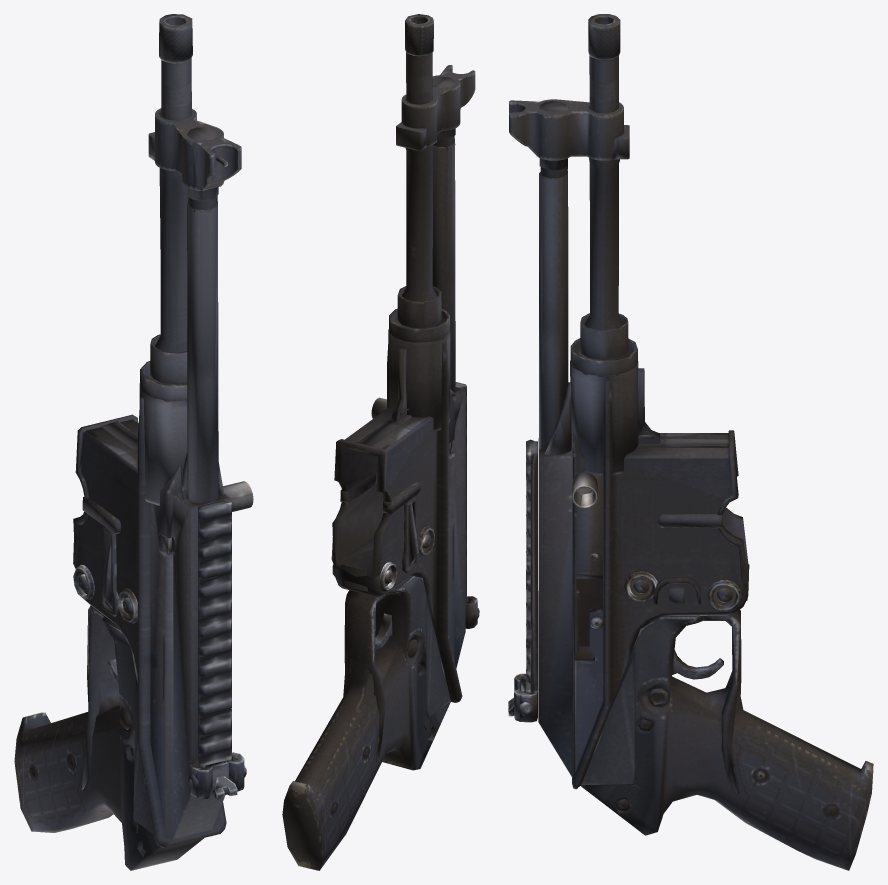
The model's file is PLR16NoMag.fbx.
3 views of the same model, side by side, from view 1: azimuth 30°, elevation 25°; view 2: azimuth 150°, elevation 25°; view 3: azimuth 270°, elevation 25° (orthographic). The views are drawn at different scales.
Visible parts, largest first — view 1: plr16; view 2: plr16; view 3: plr16.
Part boxes in pixels (x1,y1,x2,y2): plr16: [14, 14, 253, 870]; plr16: [282, 14, 479, 870]; plr16: [508, 14, 873, 870].
Bounding box in the file's own units: 0.0321 × 0.2891 × 0.1132.
